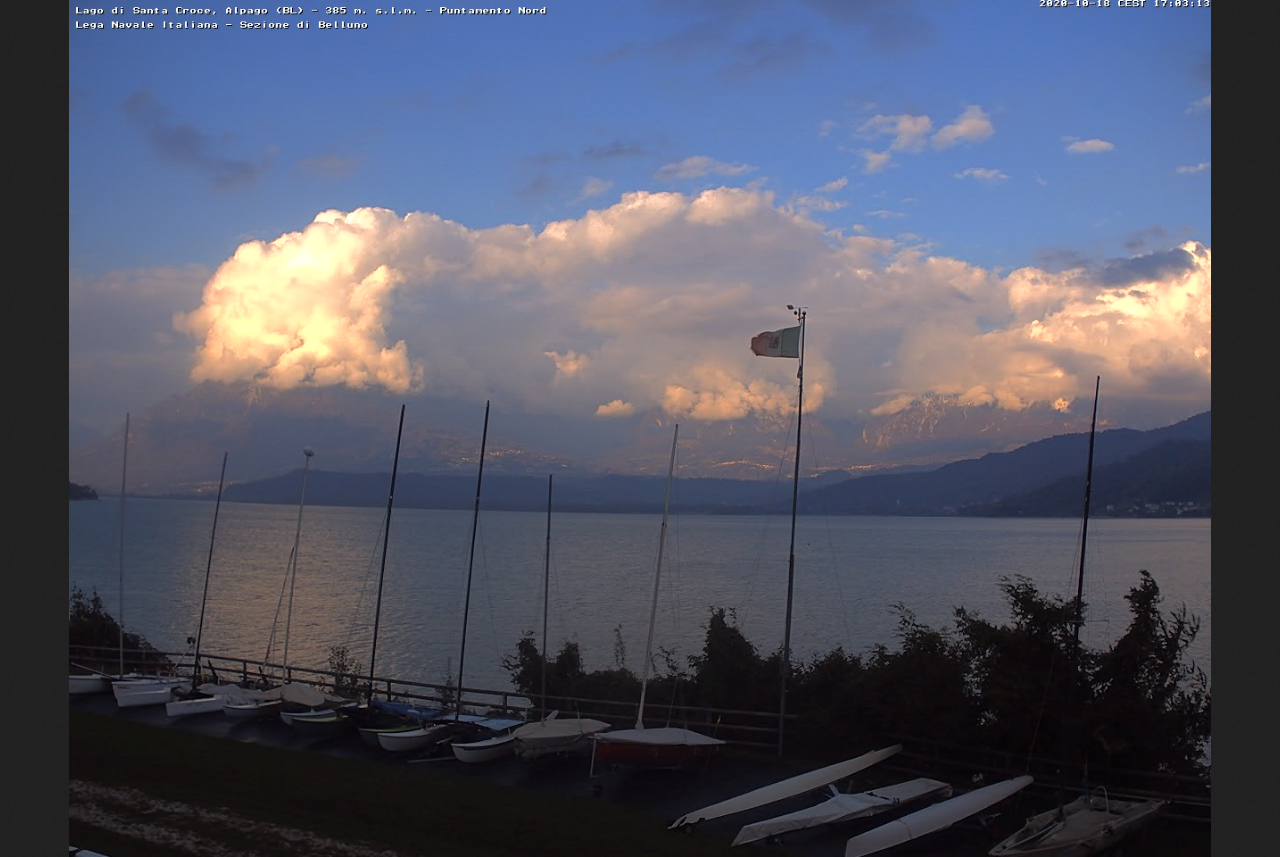yes: (749, 320, 803, 358)
